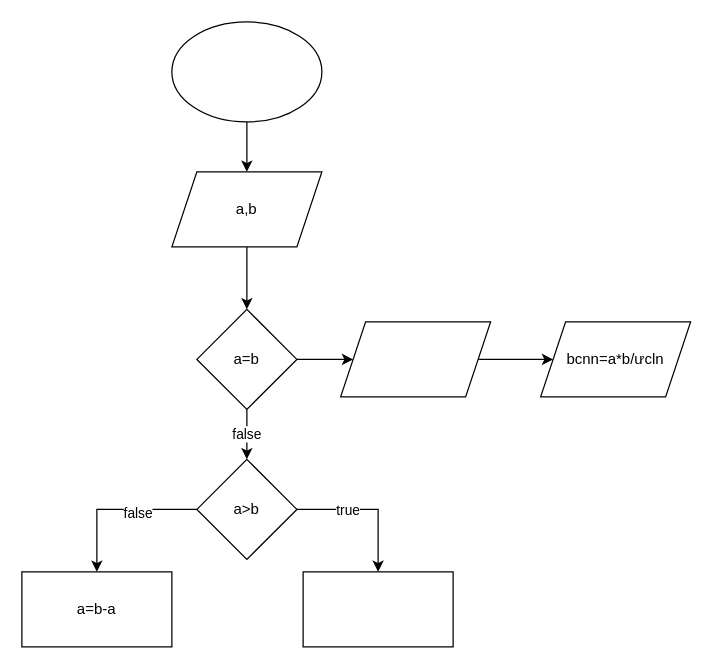
Some shapes in this 713 by 669 pixel diagram are drawn without their labels. Each missing label, with the box of its shape:
a=a-b: (302, 571, 453, 647)
start: (171, 21, 322, 122)
ưcln: (339, 321, 491, 397)
